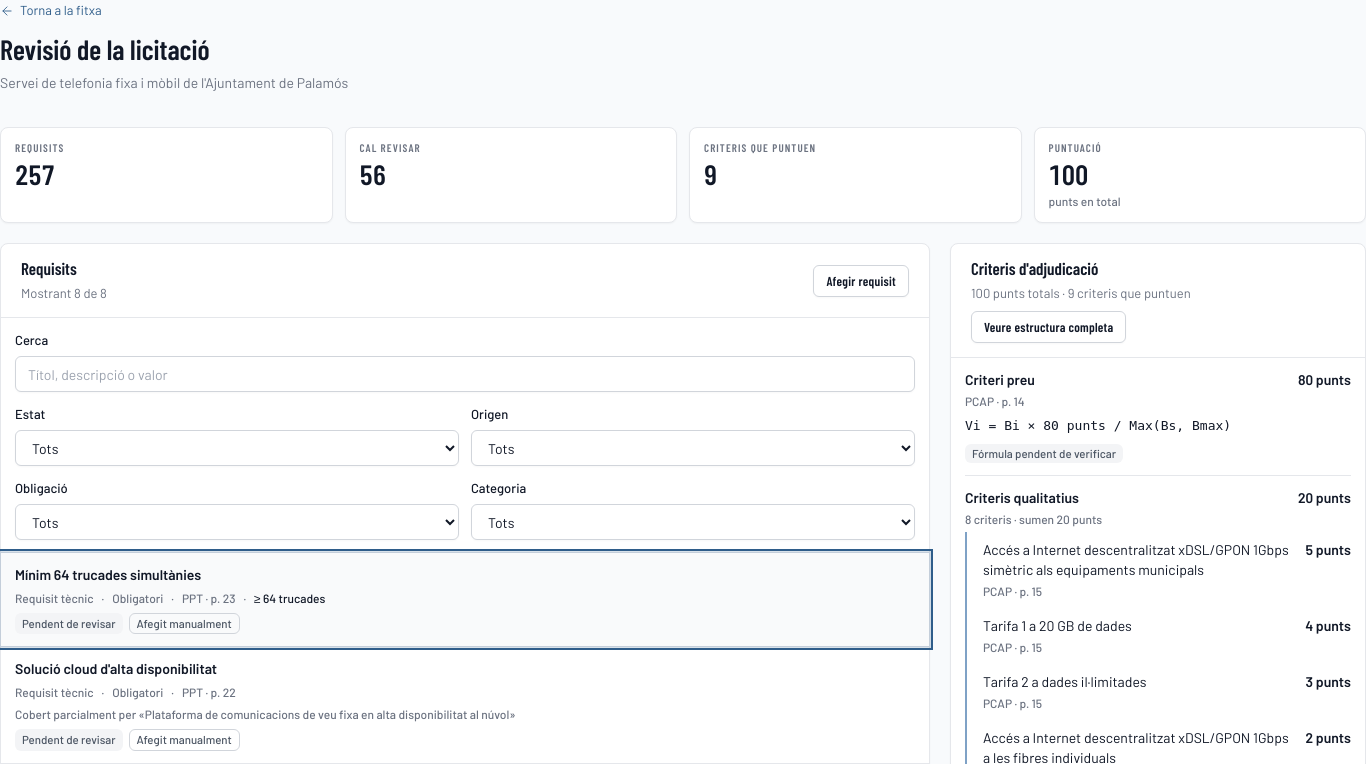
Test: Revisió de la licitació › M15: 64 trucades, afegit manualment, pendent de revisar, PPT p. 23
This screenshot has width=1366, height=764.
Expected: the text "≥ 64 trucades" is shown, [254, 589, 325, 607]
Expected: the text "PPT · p. 23" is shown, [182, 589, 236, 607]
Click the button "Mínim 64 trucades simultànies".
click(108, 575)  # box [1, 553, 929, 646]
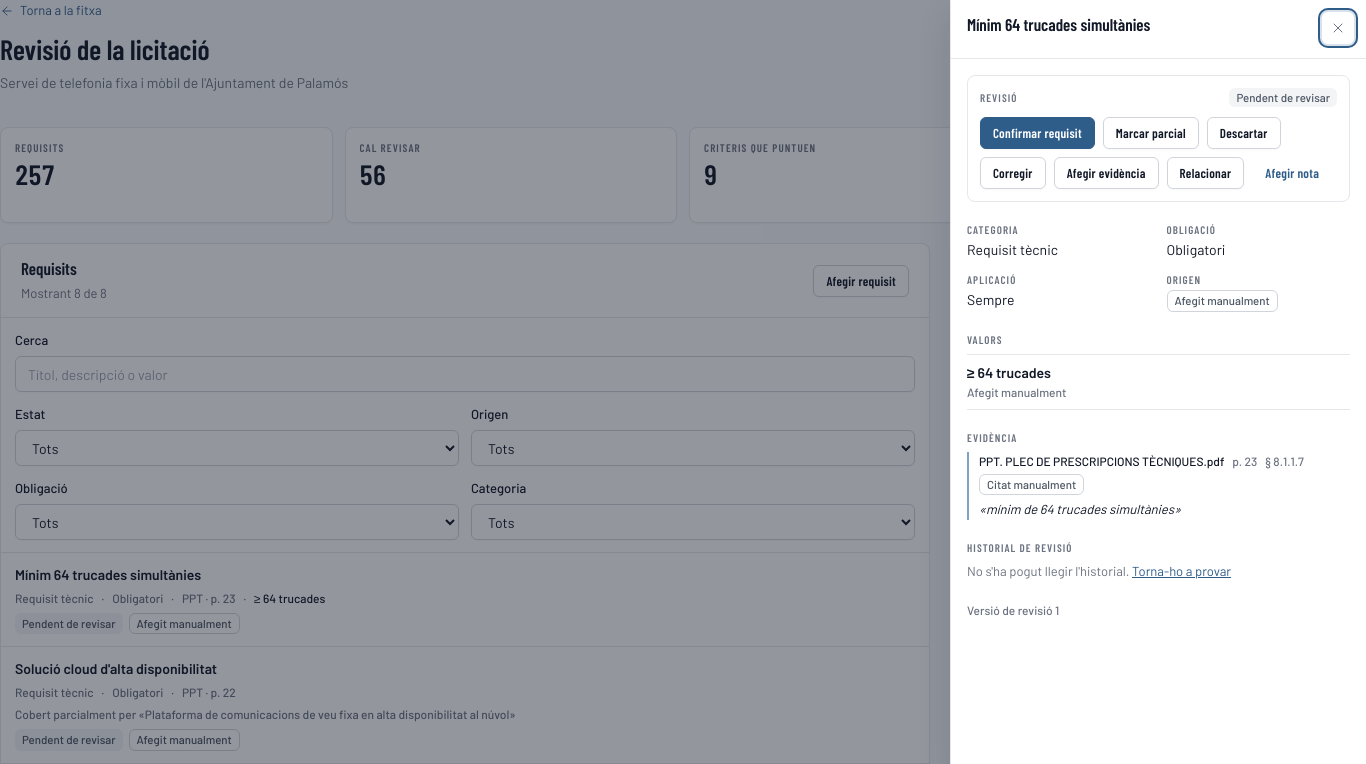
Expected: the text "≥ 64 trucades" is shown, [967, 364, 1051, 380]
Expected: the text "Pendent de revisar" is shown, [1230, 88, 1337, 107]
Expected: the text "p. 23" is shown, [1232, 452, 1257, 470]
